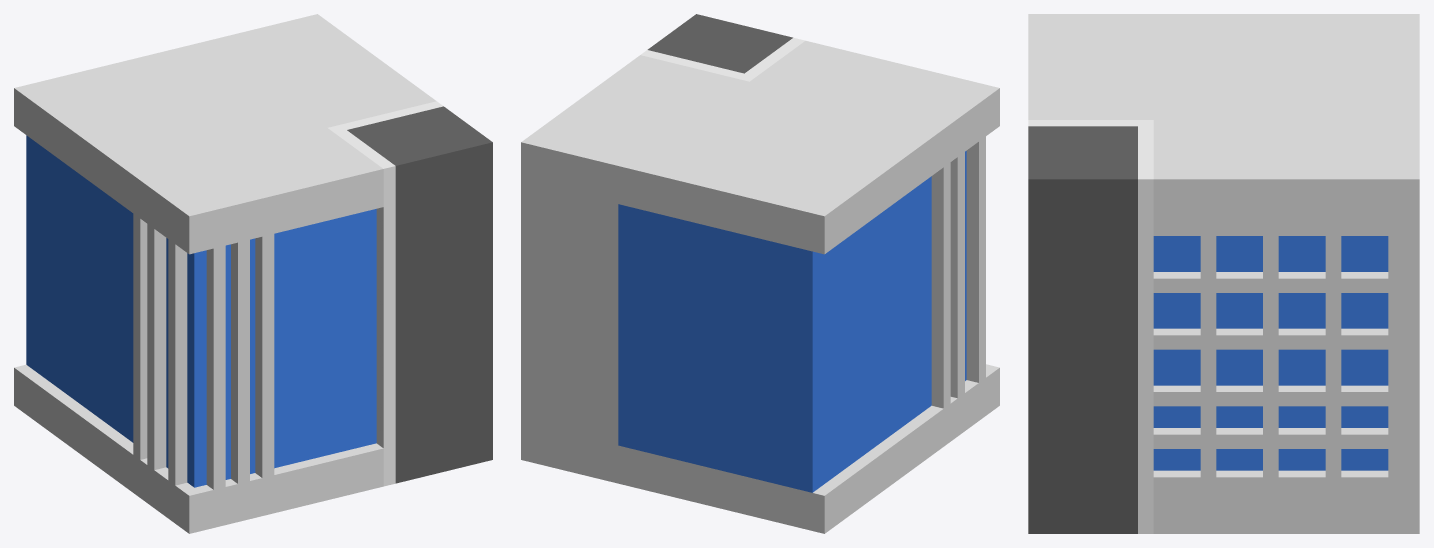
The model's file is fourteenthModel.fbx.
The picture shows the model from 3 angles, left to right: view 1: azimuth 30°, elevation 25°; view 2: azimuth 150°, elevation 25°; view 3: azimuth 270°, elevation 25°; orthographic projection. The views are drawn at different scales.
Parts seen in each view (by area): view 1: Box; view 2: Box; view 3: Box.
Boxes of the visible parts, box(x1,y1,x2,y2) form: Box: box(14, 14, 492, 533); Box: box(521, 14, 999, 533); Box: box(1028, 14, 1419, 533).
Bounding box in the file's own units: 25 × 25 × 25.
Materials: 1 (1 with a texture image).
